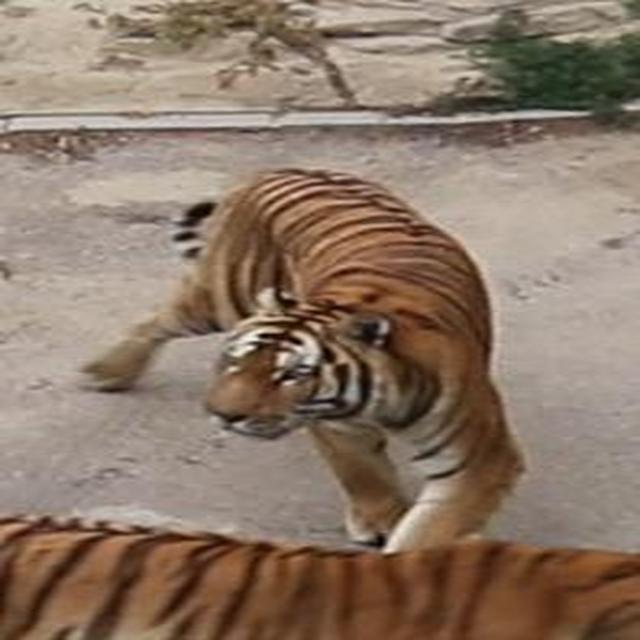tiger: (65, 161, 557, 554), (0, 496, 640, 640)
